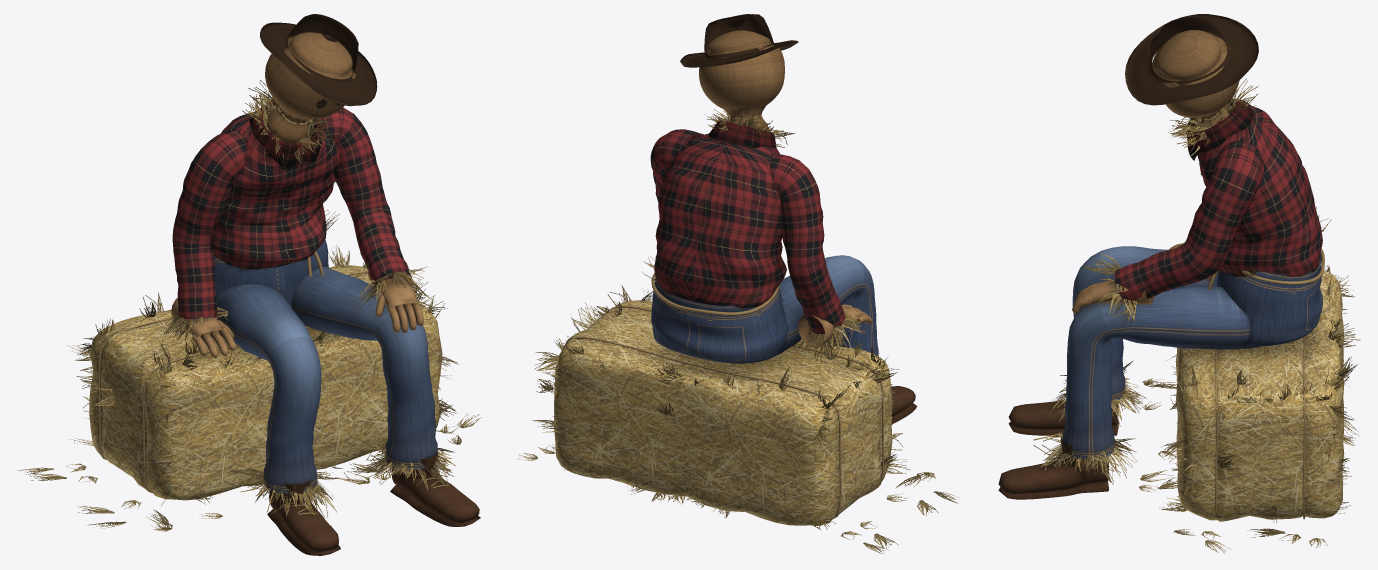
The model's file is scarecrow.glb.
The picture shows the model from 3 angles, left to right: view 1: azimuth 30°, elevation 25°; view 2: azimuth 150°, elevation 25°; view 3: azimuth 270°, elevation 25°; orthographic projection. The views are drawn at different scales.
Visible parts, largest first — view 1: Scarecrow, HayBale; view 2: HayBale, Scarecrow; view 3: Scarecrow, HayBale.
Part boxes in pixels (x1,y1,x2,y2): Scarecrow: (159, 14, 480, 555); HayBale: (18, 245, 481, 531); HayBale: (517, 285, 959, 554); Scarecrow: (642, 14, 917, 424); Scarecrow: (998, 14, 1331, 499); HayBale: (1139, 265, 1360, 553).
Bounding box in the file's own units: 1.31 × 1.35 × 0.9986.
Materials: 9 (9 with a texture image).
